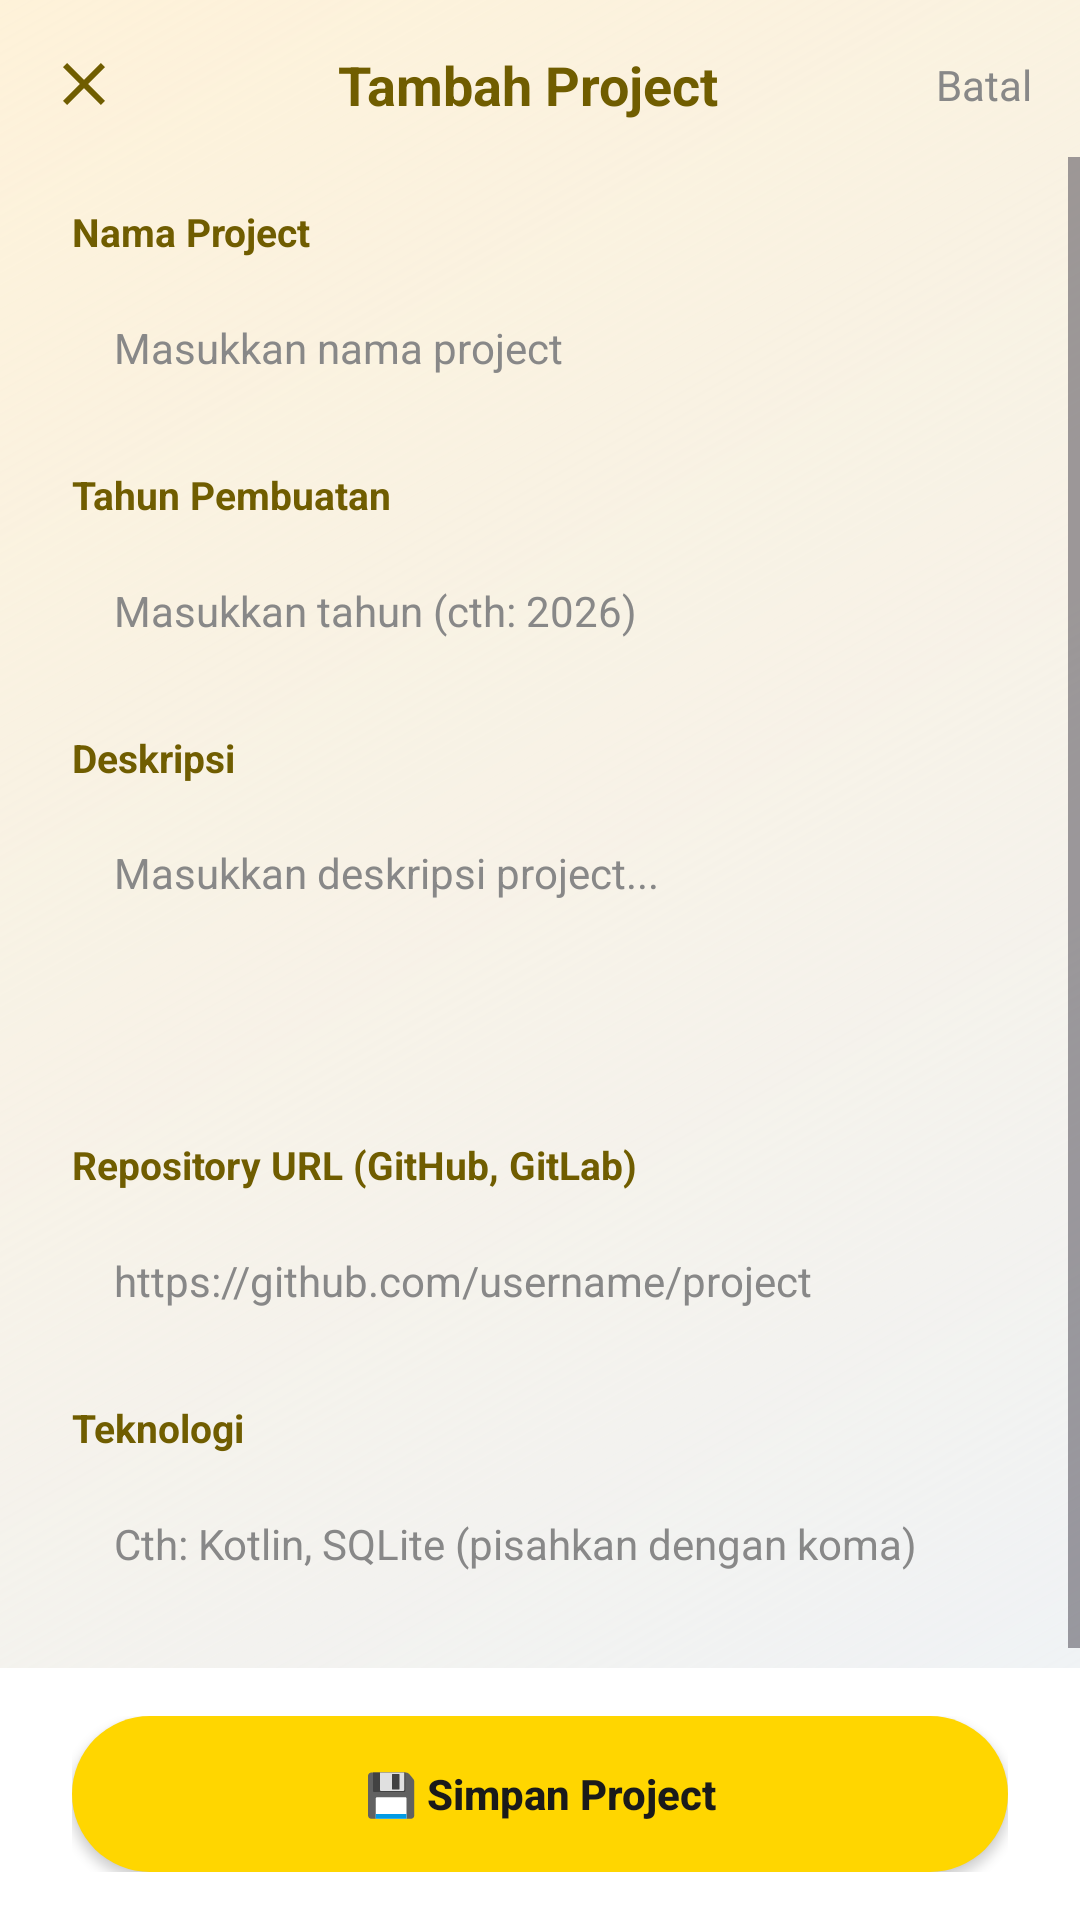

Icons on this 1080×1920 Android screen, each with its box as [x1, y1, x2, y2]:
Close: [63, 63, 105, 105]
